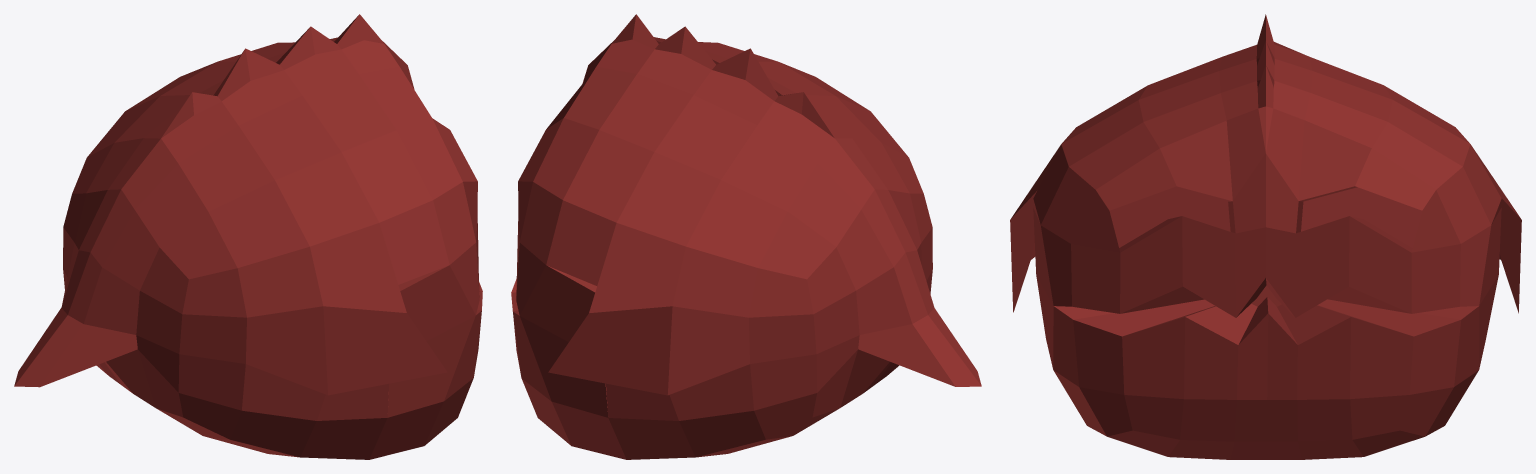
File: enemy1.glb
The picture shows the model from 3 angles, left to right: view 1: azimuth 30°, elevation 25°; view 2: azimuth 150°, elevation 25°; view 3: azimuth 270°, elevation 25°; orthographic projection. The views are drawn at different scales.
Parts seen in each view (by area): view 1: enemy; view 2: enemy; view 3: enemy.
Part boxes in pixels (x1,y1,x2,y2): enemy: [14, 14, 482, 459]; enemy: [511, 14, 981, 459]; enemy: [1010, 14, 1521, 459].
Bounding box in the file's own units: 4.84 × 4.37 × 5.08.
